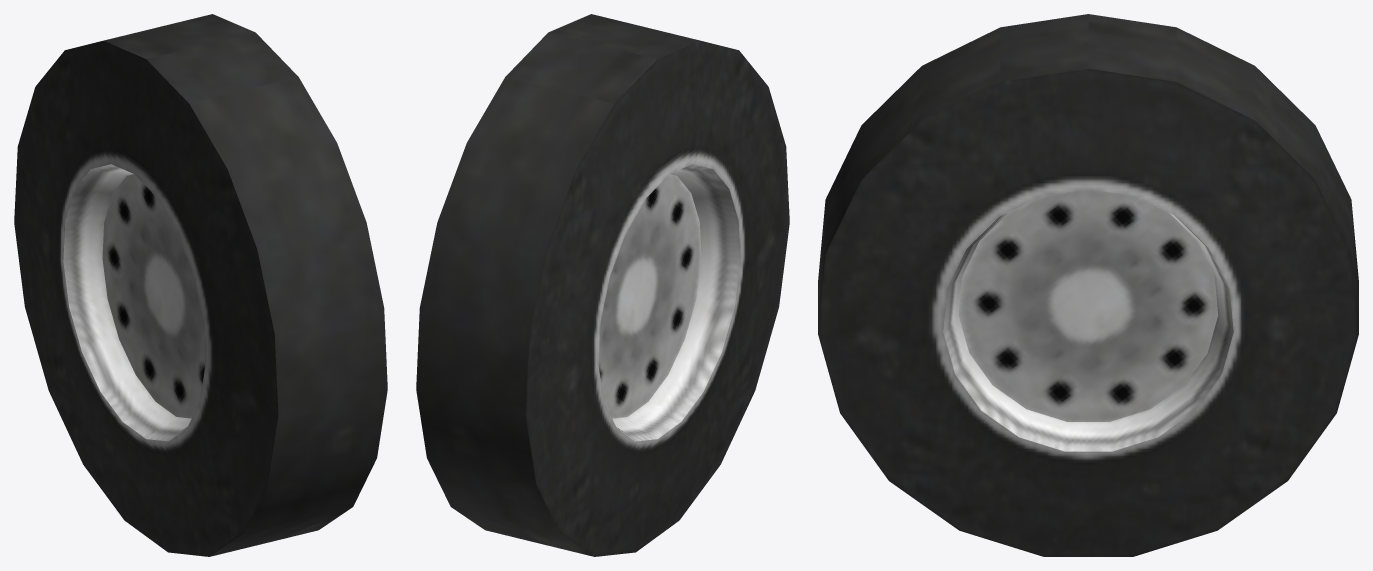
Rendered from Tyre.fbx.
3 renders of one model, left to right at view 1: azimuth 30°, elevation 25°; view 2: azimuth 150°, elevation 25°; view 3: azimuth 270°, elevation 25°, orthographic. The views are drawn at different scales.
Parts seen in each view (by area): view 1: Tyre; view 2: Tyre; view 3: Tyre.
Boxes of the visible parts, left/top/right/bottom form: Tyre: left=14, top=14, right=387, bottom=556; Tyre: left=416, top=14, right=789, bottom=556; Tyre: left=818, top=14, right=1358, bottom=556.
Bounding box in the file's own units: 30.17 × 103 × 104.
Materials: 1 (1 with a texture image).
